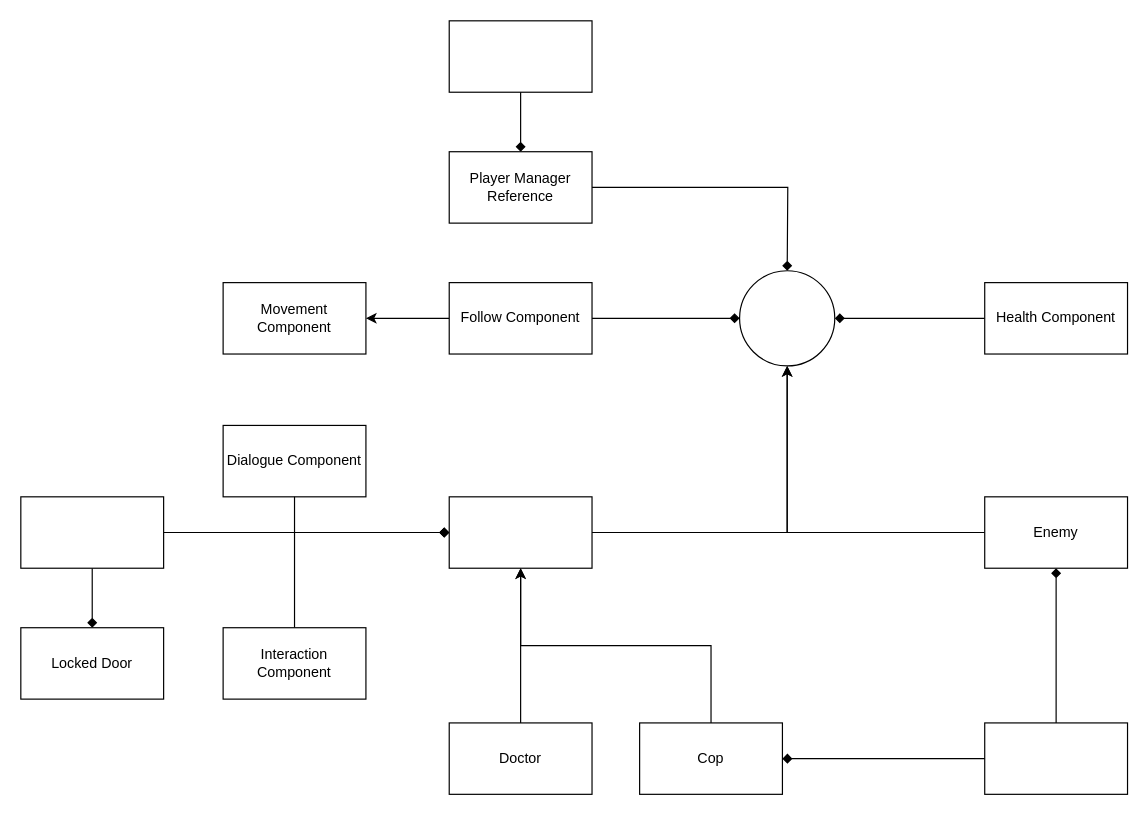
Some shapes in this 1148 by 815 pixel diagram are drawn without their labels. The centre of each missing label's shape, as x and y in pixels:
"Combat" belongs at point 1056,758.
"Friendly" belongs at point 520,532.
"Interactable Interface" belongs at point 92,532.
"NPC" belongs at point 786,318.
"Player Reference" belongs at point 520,56.
